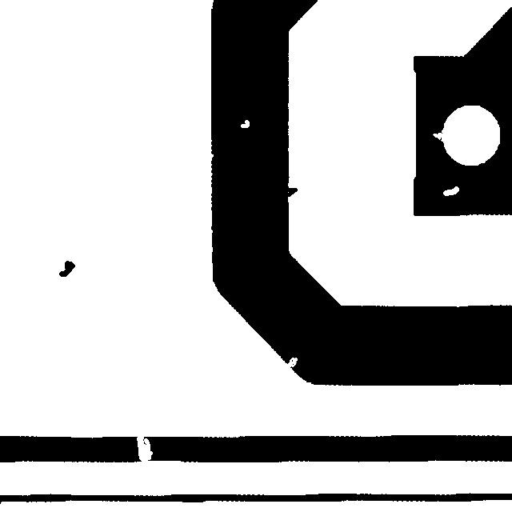copper: (51, 253, 82, 284)
mousebite: (278, 350, 305, 375), (425, 125, 451, 149)
open: (129, 425, 160, 471)
pin-hole: (435, 178, 466, 203), (233, 112, 257, 135)
spur: (278, 180, 305, 204)
